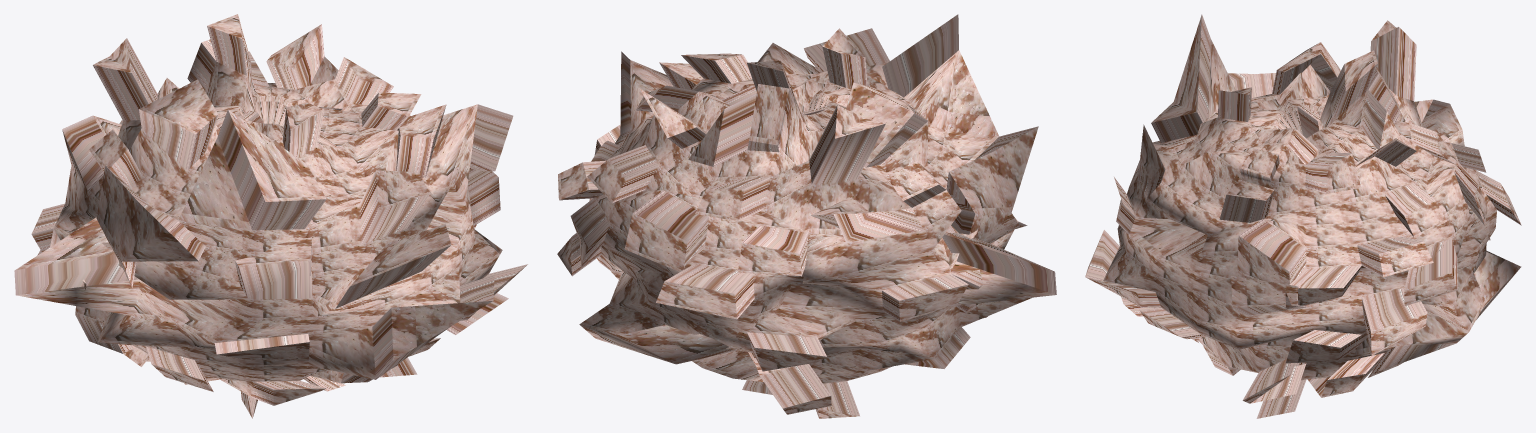
File: dolomita.fbx
3 views of the same model, side by side, from view 1: azimuth 30°, elevation 25°; view 2: azimuth 150°, elevation 25°; view 3: azimuth 270°, elevation 25° (orthographic). The views are drawn at different scales.
Visible parts, largest first — view 1: pSphere1; view 2: pSphere1; view 3: pSphere1.
Part boxes in pixels (bbox=[...]): pSphere1: bbox=[14, 14, 527, 418]; pSphere1: bbox=[557, 14, 1056, 418]; pSphere1: bbox=[1085, 14, 1521, 418].
Bounding box in the file's own units: 1.32 × 0.9476 × 1.2.
Materials: 1 (1 with a texture image).
